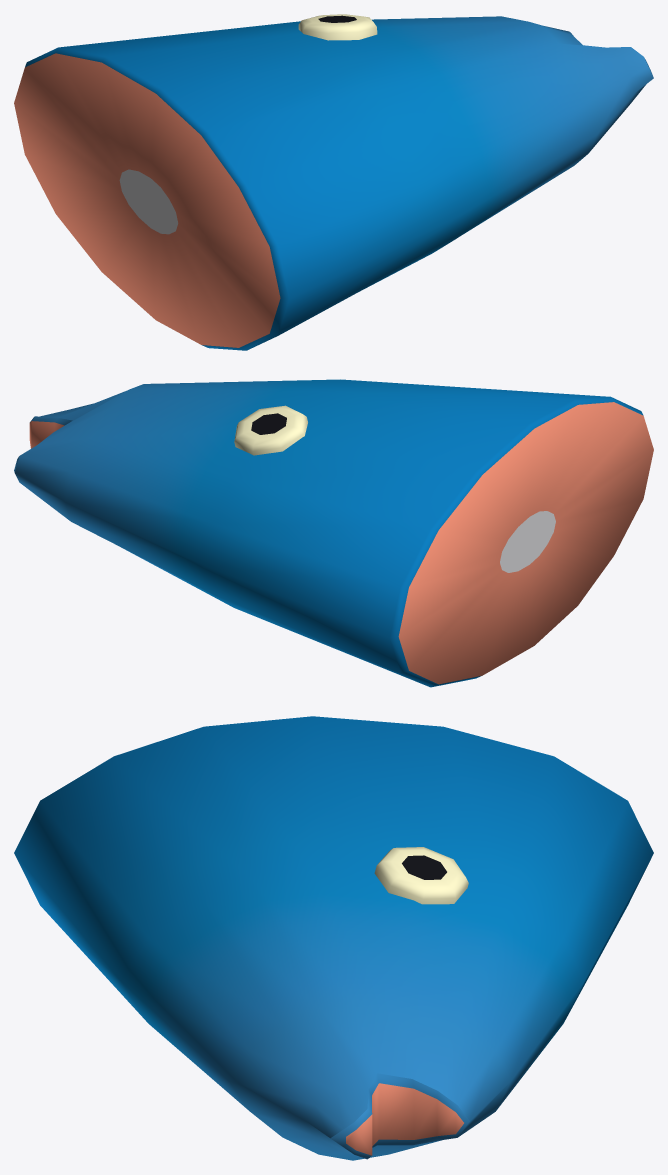
File: Fish_03.1.fbx
3 renders of one model, top to bottom at view 1: azimuth 30°, elevation 25°; view 2: azimuth 150°, elevation 25°; view 3: azimuth 270°, elevation 25°, orthographic. The views are drawn at different scales.
Visible parts, largest first — view 1: Fish_03.1; view 2: Fish_03.1; view 3: Fish_03.1.
Part boxes in pixels (x1=…): Fish_03.1: x1=14, y1=14, x2=653, y2=350; Fish_03.1: x1=14, y1=379, x2=653, y2=687; Fish_03.1: x1=14, y1=716, x2=653, y2=1160.
Bounding box in the file's own units: 92.44 × 86.16 × 40.66.
